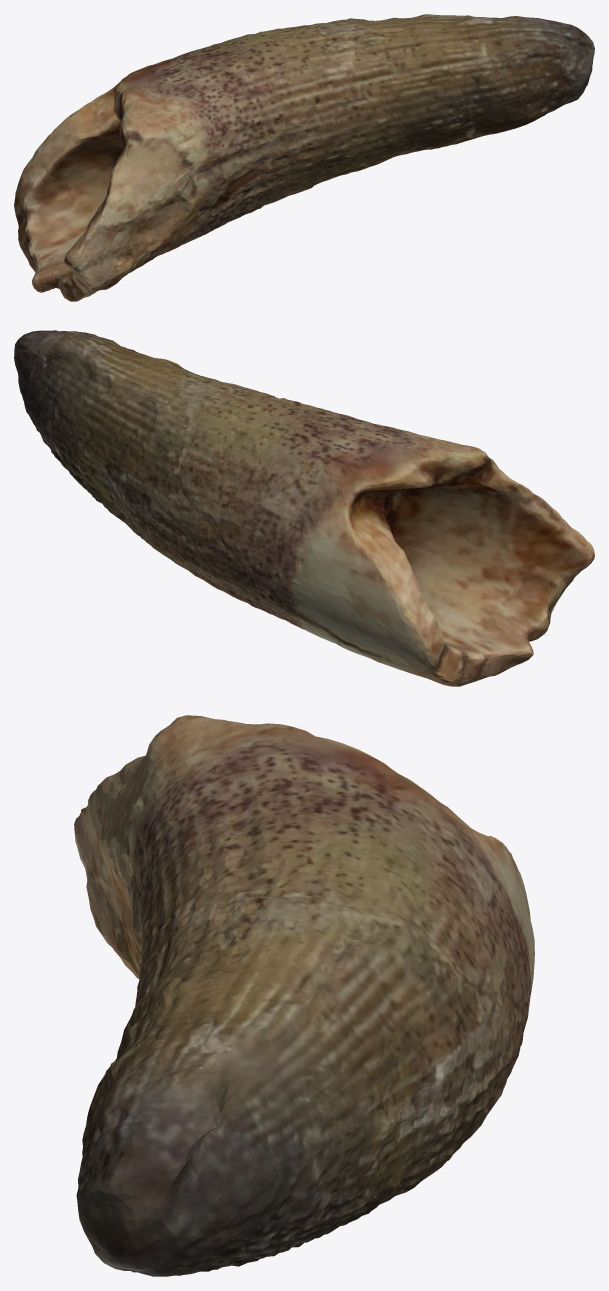
Rendered from 2-1_Crocodile_teeth.glb.
The picture shows the model from 3 angles, top to bottom: view 1: azimuth 30°, elevation 25°; view 2: azimuth 150°, elevation 25°; view 3: azimuth 270°, elevation 25°; orthographic projection. The views are drawn at different scales.
Visible parts, largest first — view 1: 3DModel; view 2: 3DModel; view 3: 3DModel.
Boxes of the visible parts, bbox=[...] form: 3DModel: bbox=[14, 14, 594, 301]; 3DModel: bbox=[14, 330, 594, 686]; 3DModel: bbox=[74, 715, 534, 1276].
Size of the model in its own units: 0.286 by 0.1006 by 0.1065.
Materials: 1 (1 with a texture image).
